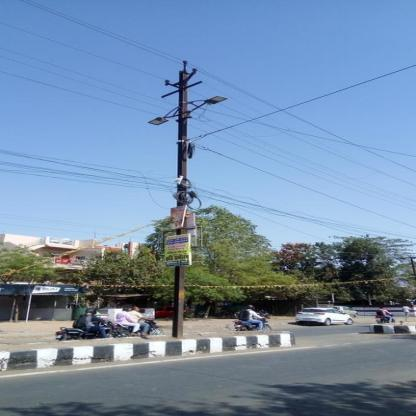Electrical Pole: (138, 58, 238, 337)
